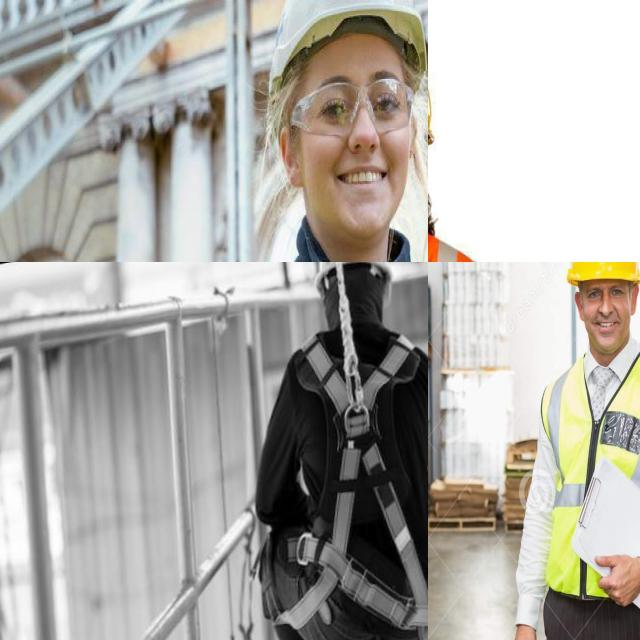Harness: (278, 335, 428, 640)
No_Ear-Protection: (274, 118, 310, 194)
face_nomask: (291, 57, 411, 234), (581, 280, 636, 348)
glasses: (289, 66, 419, 144)
hand_noglove: (599, 548, 640, 612), (505, 623, 547, 640)
head_helmet: (265, 0, 428, 61), (563, 262, 640, 286)
person: (170, 0, 428, 262), (505, 262, 640, 640), (428, 16, 517, 262)
vest: (535, 347, 640, 605)
